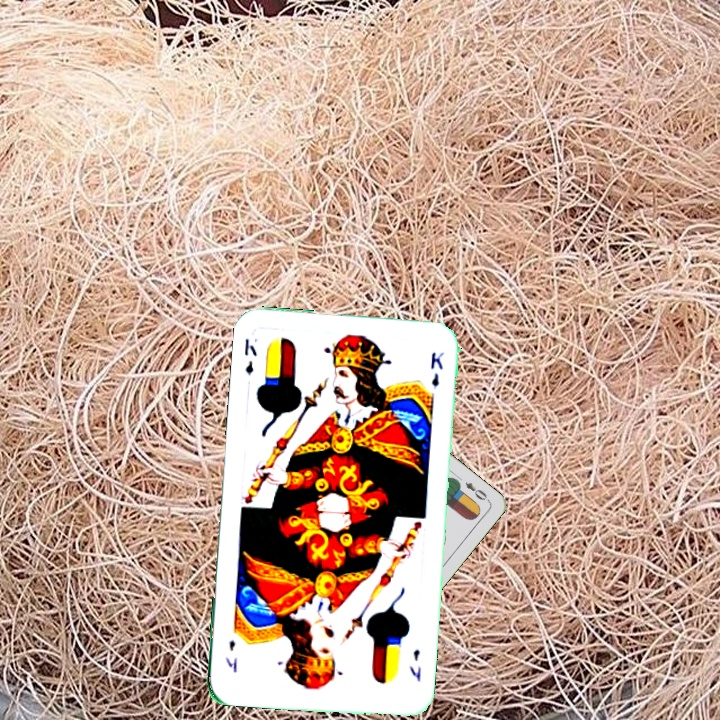EK: (240, 334, 260, 377), (405, 645, 424, 685)
EO: (461, 478, 492, 505)
